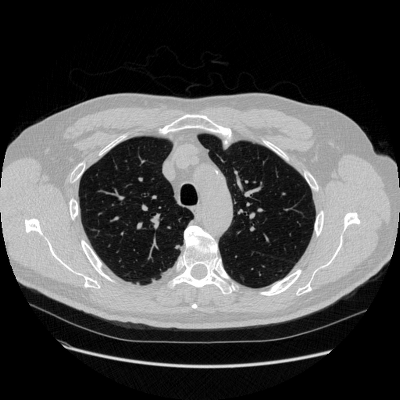nodule: (175, 245, 179, 249)
